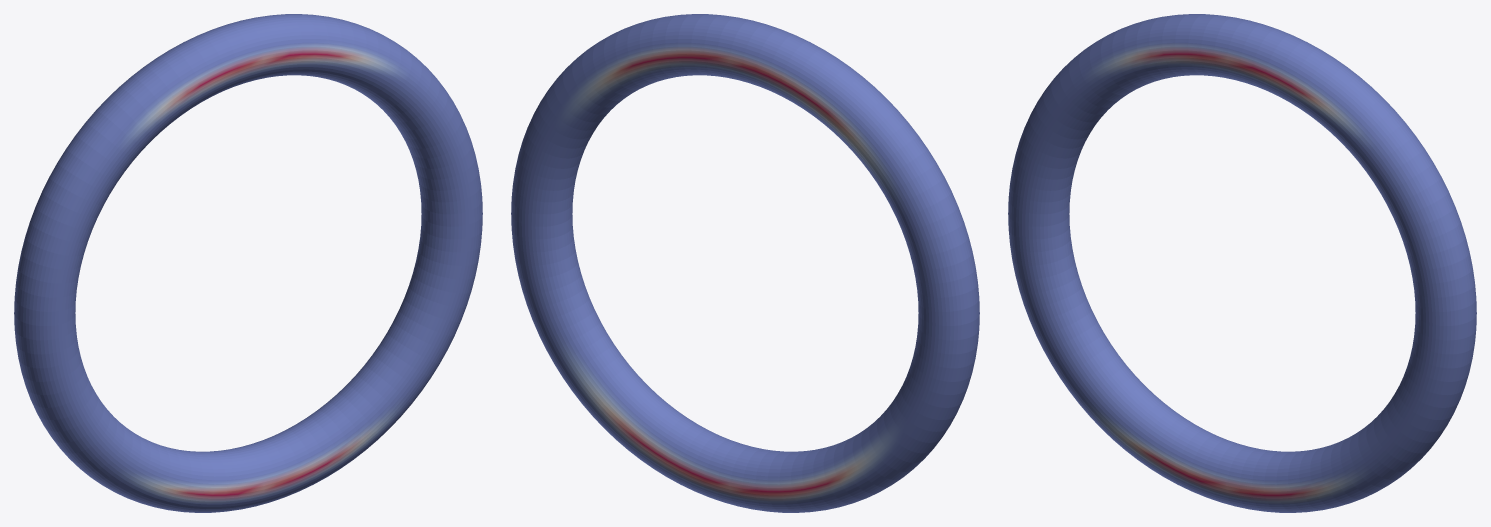
3 renders of one model, left to right at view 1: azimuth 30°, elevation 25°; view 2: azimuth 150°, elevation 25°; view 3: azimuth 330°, elevation 25°, orthographic.
Visible parts, largest first — view 1: world; view 2: world; view 3: world.
Part boxes in pixels (x1=…): world: x1=14, y1=14, x2=482, y2=512; world: x1=511, y1=14, x2=979, y2=512; world: x1=1008, y1=14, x2=1476, y2=512.
Size of the model in its own units: 17.33 by 17.33 by 2.
